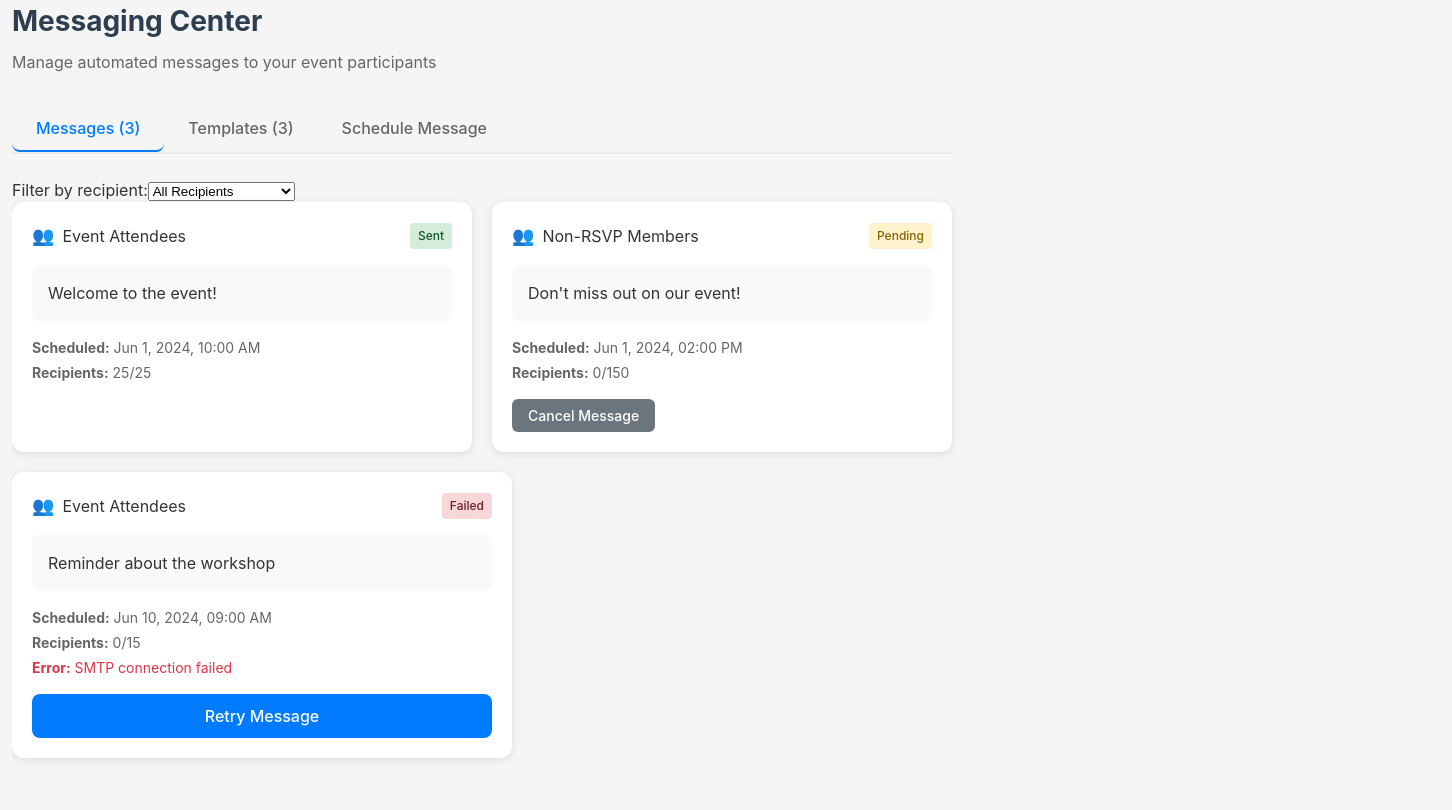
MessagingCenter Component › opens template creation form
This screenshot has width=1452, height=810.
Click the button "Templates (3)".
click(241, 129)  # box [164,106,318,152]
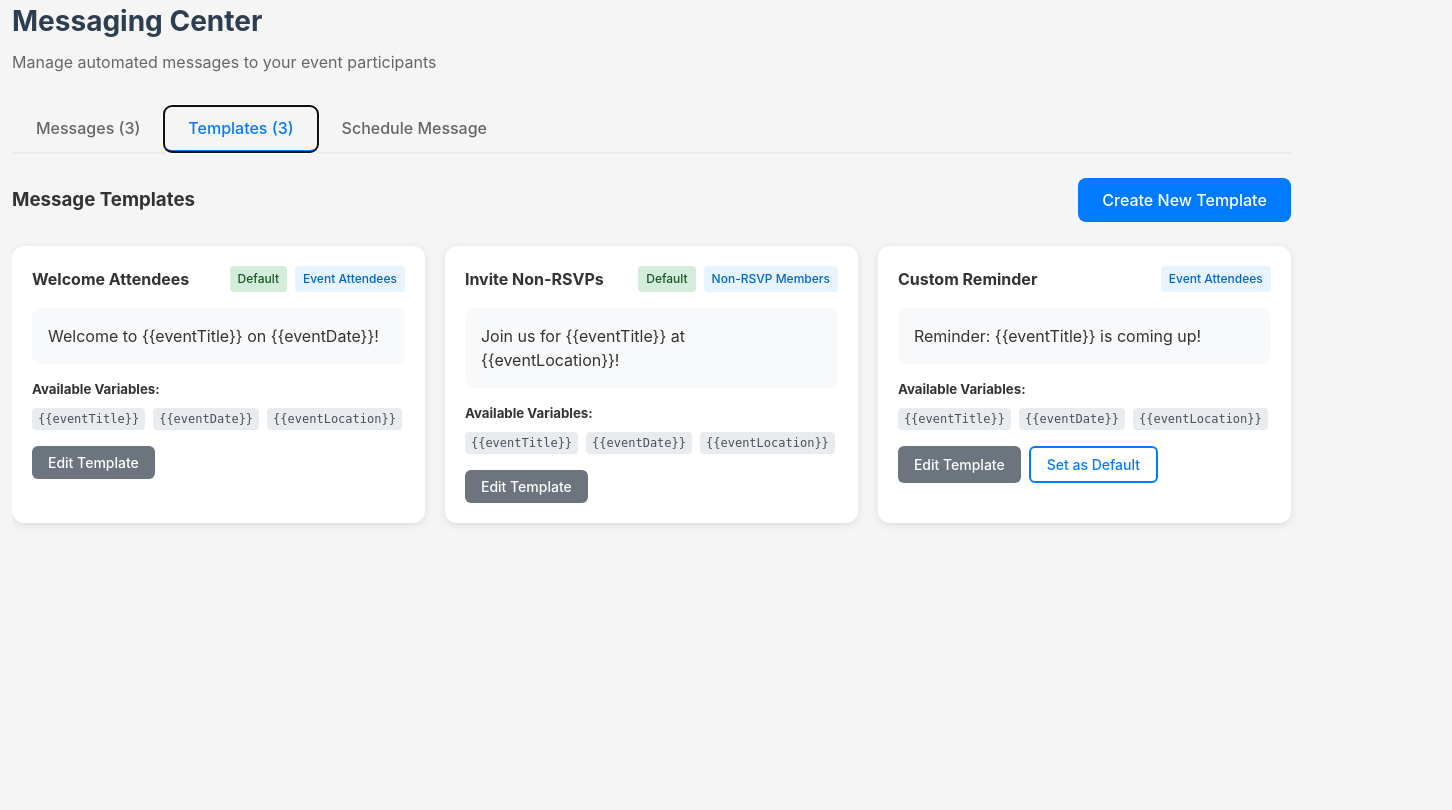
Click the button "Create New Template".
click(1185, 200)  # box [1078,178,1291,222]
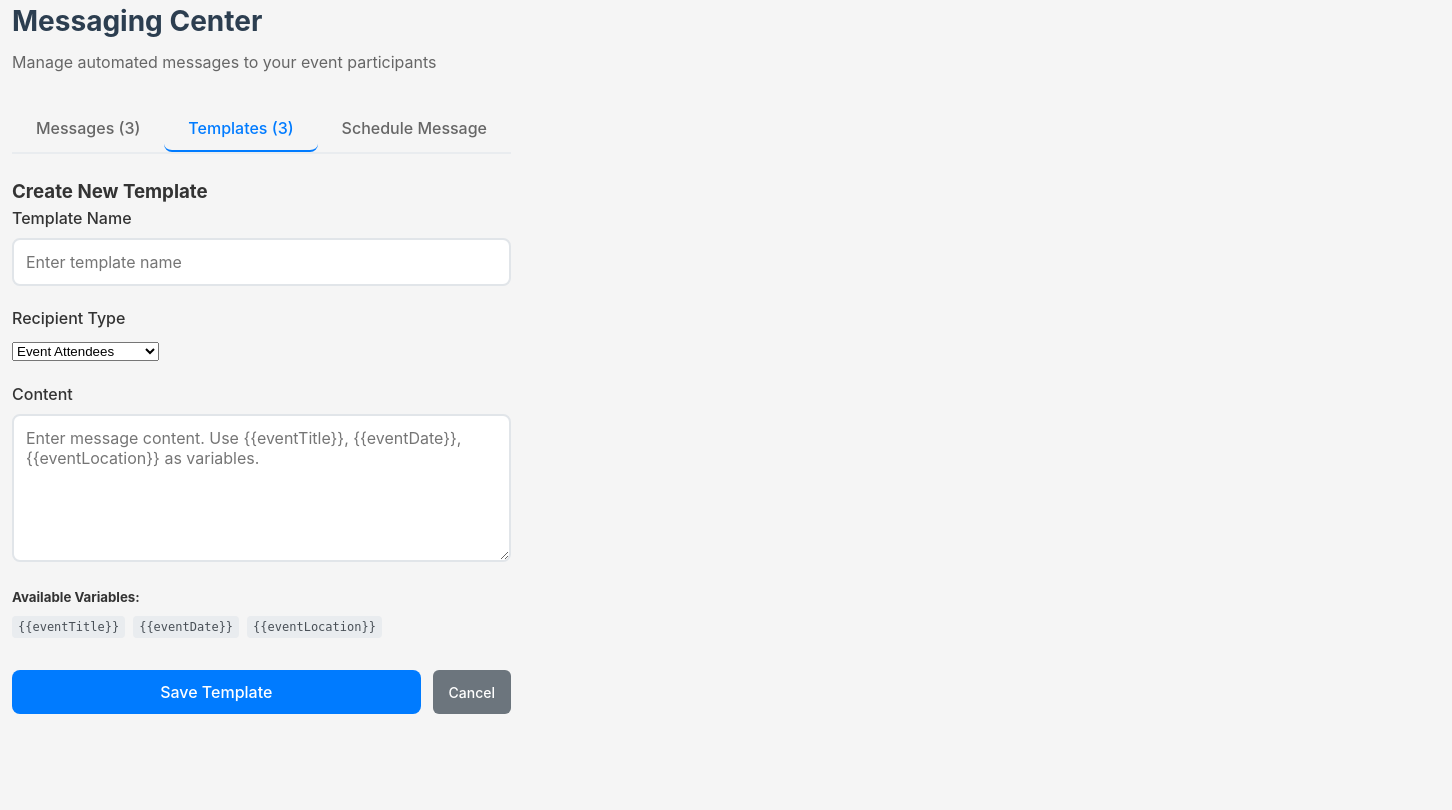
Now the heading "Create New Template" is shown, box [12,180,208,203]
Now the field labelled "Template Name" is shown, box [12,238,511,286]
Now the text box labelled "Content" is shown, box [12,414,511,562]
